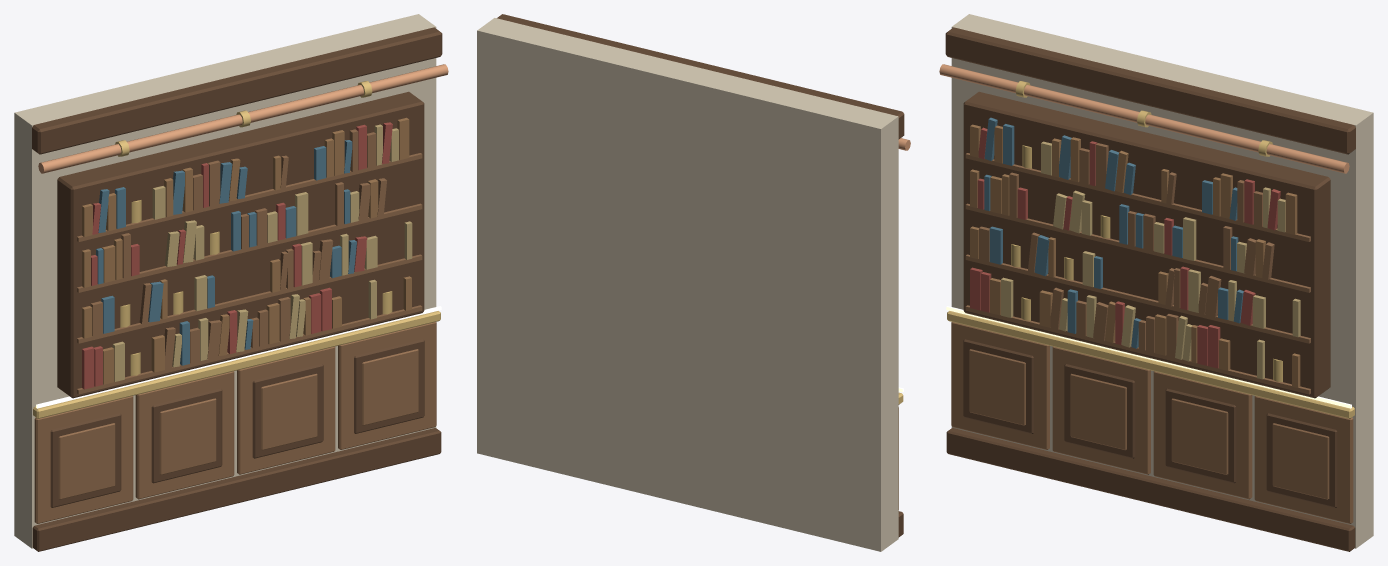
File: wall_hm_shelf.glb
The picture shows the model from 3 angles, left to right: view 1: azimuth 30°, elevation 25°; view 2: azimuth 150°, elevation 25°; view 3: azimuth 330°, elevation 25°; orthographic projection.
Parts seen in each view (by area): view 1: wall_hm_shelf; view 2: wall_hm_shelf; view 3: wall_hm_shelf.
Boxes of the visible parts, x1,y1,x2,y2 form: wall_hm_shelf: [14, 14, 448, 551]; wall_hm_shelf: [477, 14, 910, 551]; wall_hm_shelf: [939, 14, 1373, 551].
Bounding box in the file's own units: 4 × 4 × 0.602.
